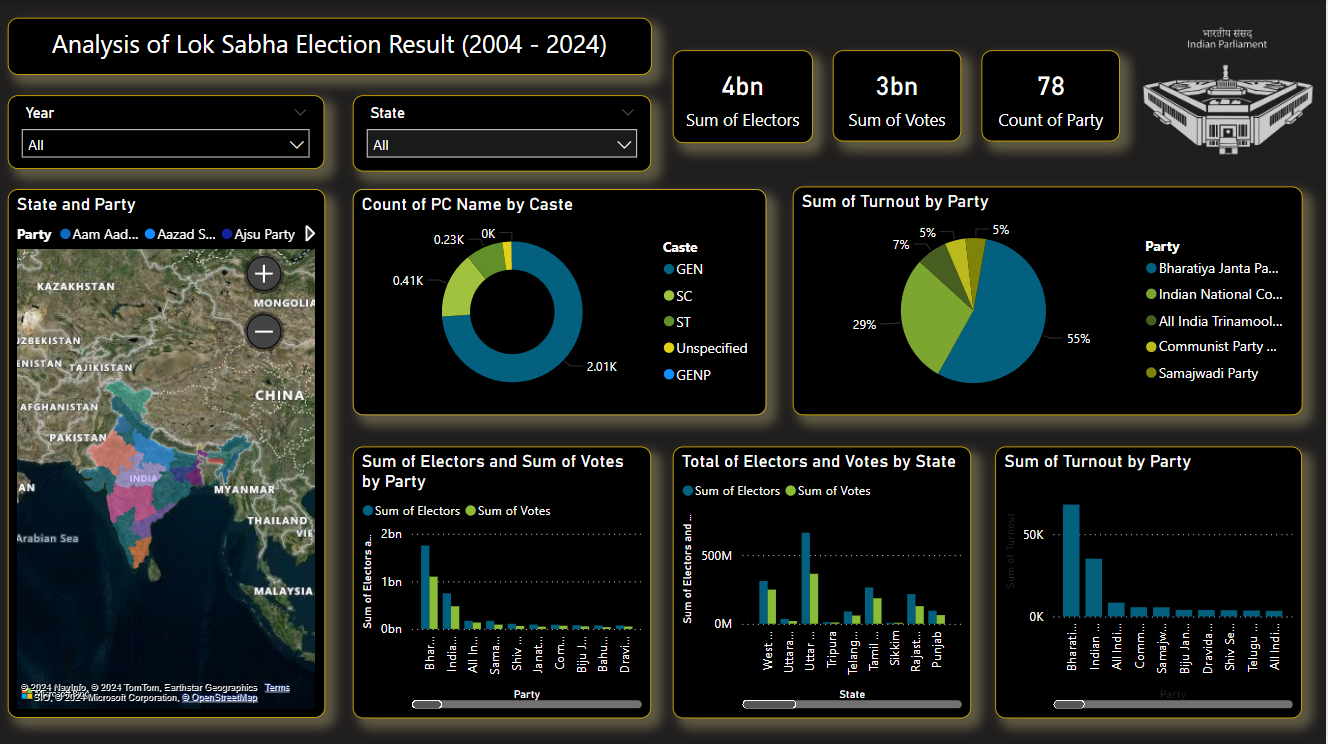

The dashboard page shown, as its layout file describes it:
{"tool":"powerbi","page":{"name":"Page 2","canvas":[2250,1070],"ordinal":0},"visuals":[{"type":"clusteredColumnChart","title":"Total of Electors and Votes by State","fields":{"Y":["Sum(Final_Election_Data (2004-2024)_sys.Electors)","Sum(Final_Election_Data (2004-2024)_sys.Votes)"],"Category":["Final_Election_Data (2004-2024)_sys.State"]},"box":[1092,614,582,408],"z":0},{"type":"pieChart","fields":{"Category":["Final_Election_Data (2004-2024)_sys.Party"],"Y":["Sum(Final_Election_Data (2004-2024)_sys.Turnout)"]},"box":[1204,176,562,388],"z":1000},{"type":"donutChart","fields":{"Category":["Final_Election_Data (2004-2024)_sys.Caste"],"Y":["CountNonNull(Final_Election_Data (2004-2024)_sys.PC Name)"]},"box":[1714,614,506,408],"z":2000},{"type":"clusteredColumnChart","fields":{"Category":["Final_Election_Data (2004-2024)_sys.Party"],"Y":["Sum(Final_Election_Data (2004-2024)_sys.Electors)","Sum(Final_Election_Data (2004-2024)_sys.Votes)"]},"box":[598,614,454,408],"z":3000},{"type":"slicer","fields":{"Values":["Final_Election_Data (2004-2024)_sys.Year"]},"box":[272.5,28.7,277.9,98.6],"z":4000},{"type":"slicer","fields":{"Values":["Final_Election_Data (2004-2024)_sys.State"]},"box":[598.8,28.7,442.8,98.6],"z":5000},{"type":"card","fields":{"Values":["Sum(Final_Election_Data (2004-2024)_sys.Electors)"]},"box":[1640,28,250,100],"z":6000},{"type":"card","fields":{"Values":["Sum(Final_Election_Data (2004-2024)_sys.Votes)"]},"box":[1370,28,236,100],"z":7000},{"type":"filledMap","fields":{"Category":["Final_Election_Data (2004-2024)_sys.State"],"Series":["Final_Election_Data (2004-2024)_sys.Party"]},"box":[36,472,514,550],"z":8000},{"type":"card","fields":{"Values":["Count(Final_Election_Data (2004-2024)_sys.Party)"]},"box":[1076,28,254,100],"z":9000},{"type":"clusteredColumnChart","fields":{"Category":["Final_Election_Data (2004-2024)_sys.Party"],"Y":["Sum(Final_Election_Data (2004-2024)_sys.Turnout)"]},"box":[1792,176,428,388],"z":10000},{"type":"lineStackedColumnComboChart","fields":{"Category":["Final_Election_Data (2004-2024)_sys.Year"],"Y":["Sum(Final_Election_Data (2004-2024)_sys.Electors)"],"Y2":["Sum(Final_Election_Data (2004-2024)_sys.Votes)"]},"box":[598,176,574,388],"z":11000},{"type":"card","fields":{"Values":["CountNonNull(Final_Election_Data (2004-2024)_sys.Winning Candidate)"]},"box":[1918,28,302,100],"z":12000},{"type":"tableEx","title":"PC Wise Winning Candidate","fields":{"Values":["Final_Election_Data (2004-2024)_sys.PC Name","Final_Election_Data (2004-2024)_sys.Winning Candidate","Sum(Final_Election_Data (2004-2024)_sys.Votes)"]},"box":[36.1,176.9,514.3,265.3],"z":13000},{"type":"image","box":[35.9,28.7,206.2,121.9],"z":14000}]}

Visuals, with their boxes in screenshot pixels (x1, y1, x2, y2):
"Total of Electors and Votes by State" clusteredColumnChart: locate(645, 450, 996, 696)
pieChart - Final_Election_Data (2004-2024)_sys.Party x Sum(Final_Election_Data (2004-2024)_sys.Turnout): locate(713, 186, 1052, 420)
donutChart - Final_Election_Data (2004-2024)_sys.Caste x CountNonNull(Final_Election_Data (2004-2024)_sys.PC Name): locate(1021, 450, 1326, 696)
clusteredColumnChart - Final_Election_Data (2004-2024)_sys.Party x Sum(Final_Election_Data (2004-2024)_sys.Electors): locate(347, 450, 621, 696)
slicer - Final_Election_Data (2004-2024)_sys.Year: locate(151, 97, 318, 156)
slicer - Final_Election_Data (2004-2024)_sys.State: locate(348, 97, 615, 156)
card - Sum(Final_Election_Data (2004-2024)_sys.Electors): locate(976, 96, 1127, 157)
card - Sum(Final_Election_Data (2004-2024)_sys.Votes): locate(813, 96, 955, 157)
filledMap - Final_Election_Data (2004-2024)_sys.State x Final_Election_Data (2004-2024)_sys.Party: locate(8, 364, 318, 696)
card - Count(Final_Election_Data (2004-2024)_sys.Party): locate(635, 96, 789, 157)
clusteredColumnChart - Final_Election_Data (2004-2024)_sys.Party x Sum(Final_Election_Data (2004-2024)_sys.Turnout): locate(1068, 186, 1326, 420)
lineStackedColumnComboChart - Final_Election_Data (2004-2024)_sys.Year x Sum(Final_Election_Data (2004-2024)_sys.Electors): locate(347, 186, 693, 420)
card - CountNonNull(Final_Election_Data (2004-2024)_sys.Winning Candidate): locate(1144, 96, 1326, 157)
"PC Wise Winning Candidate" tableEx: locate(8, 186, 318, 346)
image: locate(8, 97, 132, 170)
